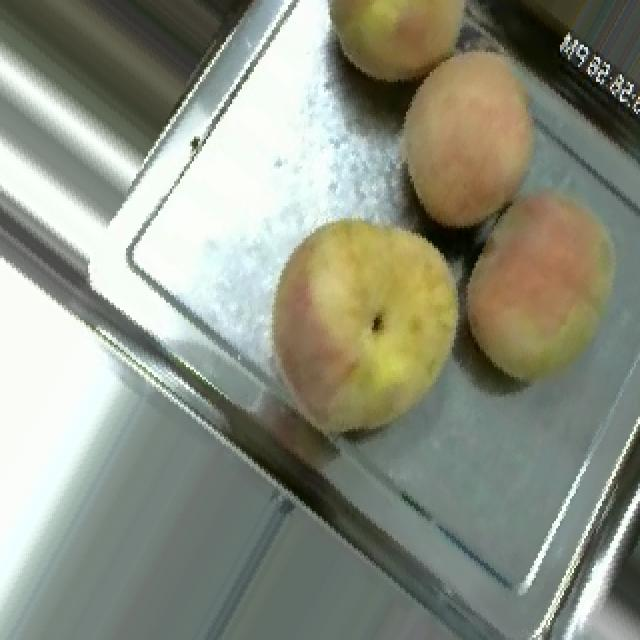Fruit: (242, 196, 482, 454), (372, 12, 566, 250), (450, 164, 640, 402)
